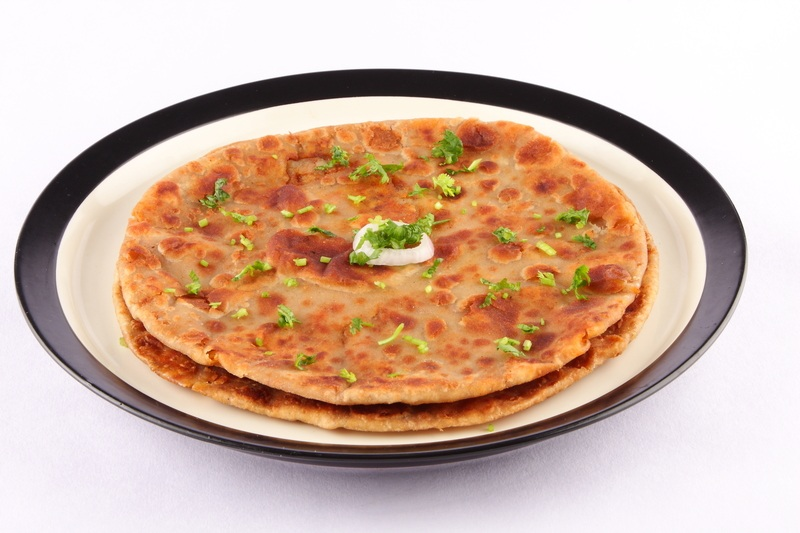aloo_paratha: (116, 114, 658, 437)
